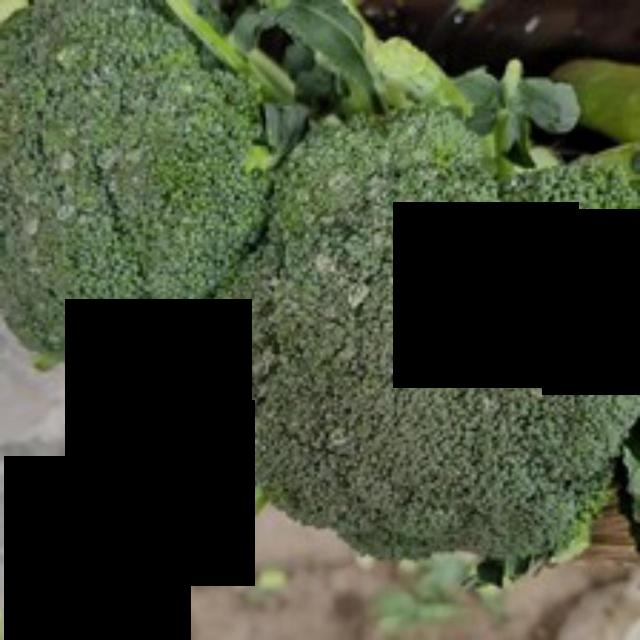broccoli: (194, 94, 637, 560)
